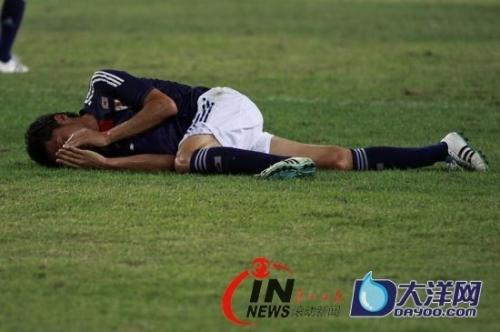fall: (18, 47, 483, 181)
